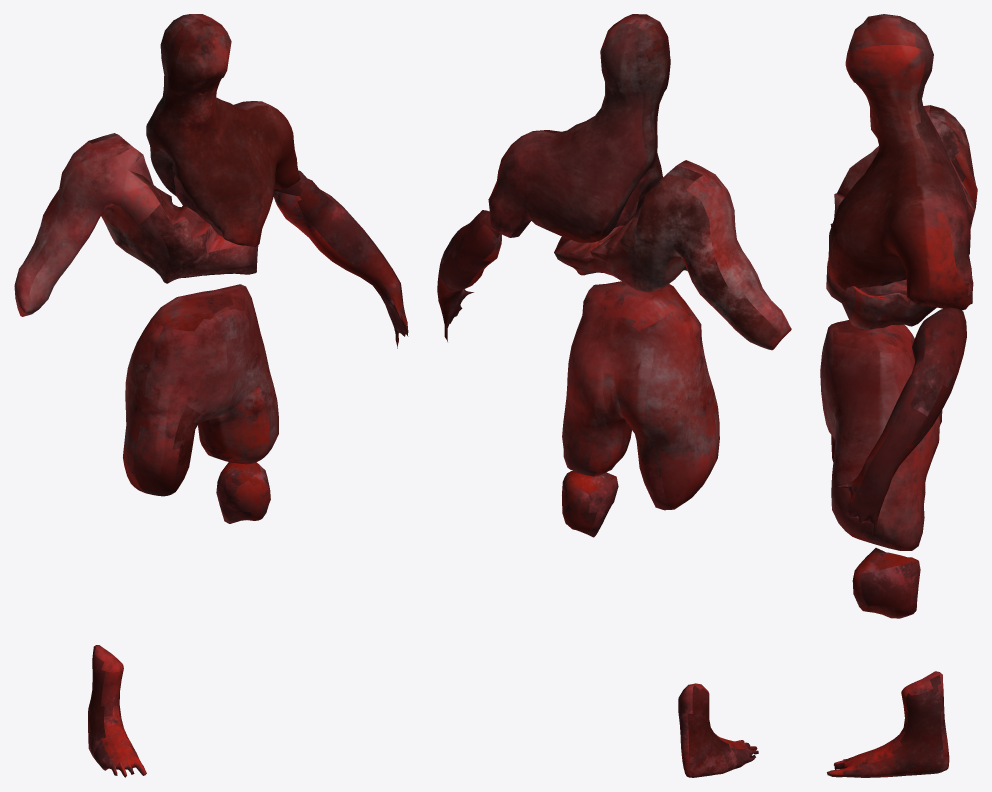
3 renders of one model, left to right at view 1: azimuth 30°, elevation 25°; view 2: azimuth 150°, elevation 25°; view 3: azimuth 270°, elevation 25°, orthographic. The views are drawn at different scales.
Visible parts, largest first — view 1: Retopo_human .003, Retopo_human .006, Retopo_human .008, Retopo_human .007, Retopo_human .002, Retopo_human .005; view 2: Retopo_human .003, Retopo_human .006, Retopo_human .008, Retopo_human .002, Retopo_human .007, Retopo_human .005; view 3: Retopo_human .006, Retopo_human .003, Retopo_human .007, Retopo_human .008, Retopo_human .002, Retopo_human .005.
Boxes of the visible parts, x1,y1,x2,y2 form: Retopo_human .003: (123, 284, 278, 496); Retopo_human .006: (146, 14, 300, 247); Retopo_human .008: (14, 133, 258, 316); Retopo_human .007: (273, 170, 408, 348); Retopo_human .002: (88, 645, 146, 777); Retopo_human .005: (216, 462, 270, 523); Retopo_human .003: (562, 281, 719, 510); Retopo_human .006: (488, 14, 670, 242); Retopo_human .008: (554, 160, 791, 350); Retopo_human .002: (678, 683, 758, 777); Retopo_human .007: (437, 210, 501, 341); Retopo_human .005: (562, 471, 618, 537); Retopo_human .006: (828, 14, 973, 310); Retopo_human .003: (820, 320, 942, 550); Retopo_human .007: (838, 307, 966, 538); Retopo_human .008: (826, 105, 977, 329); Retopo_human .002: (827, 671, 949, 777); Retopo_human .005: (852, 548, 920, 618).
Bounding box in the file's own units: 1.04 × 1.97 × 0.3519.
Materials: 1 (1 with a texture image).
